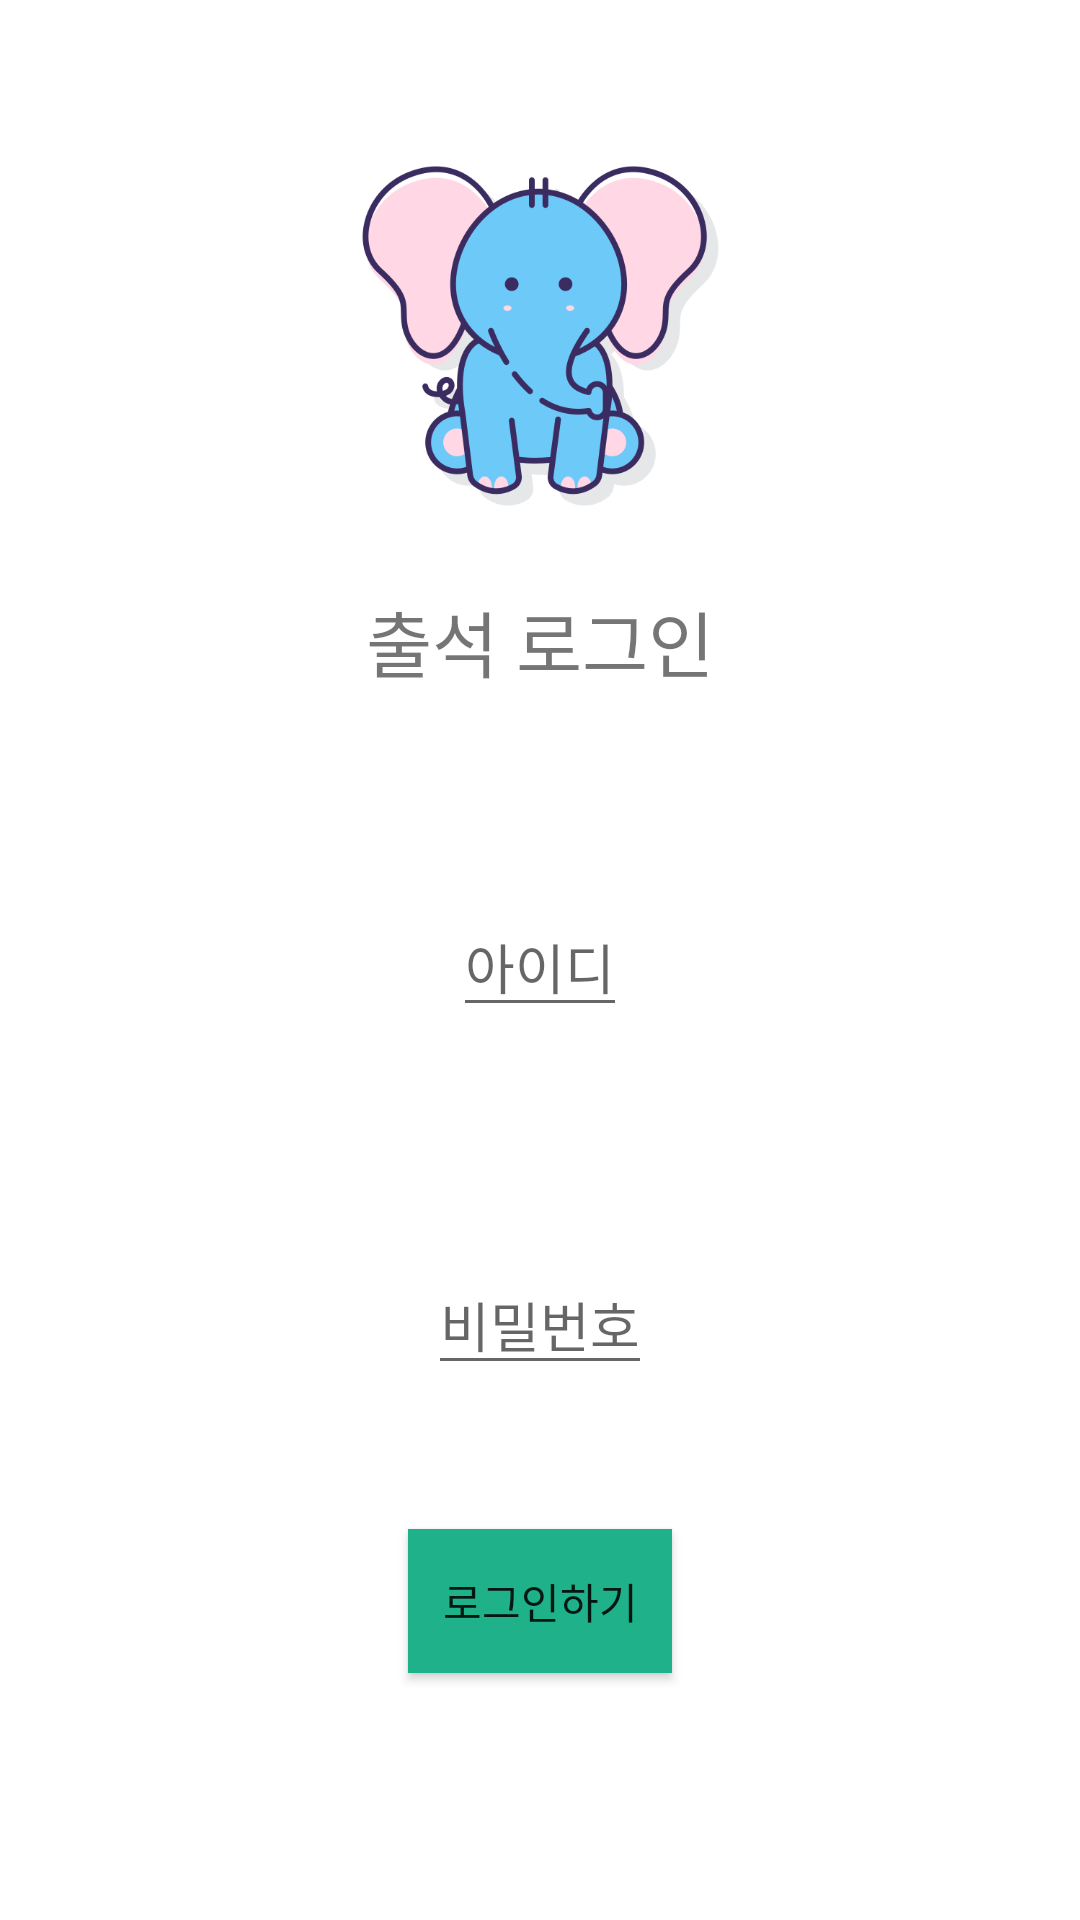

Screen size 1080x1920. Icon name, then its box in pixels as (x1, y1, x2, y2):
elephant: (362, 166, 717, 505)
